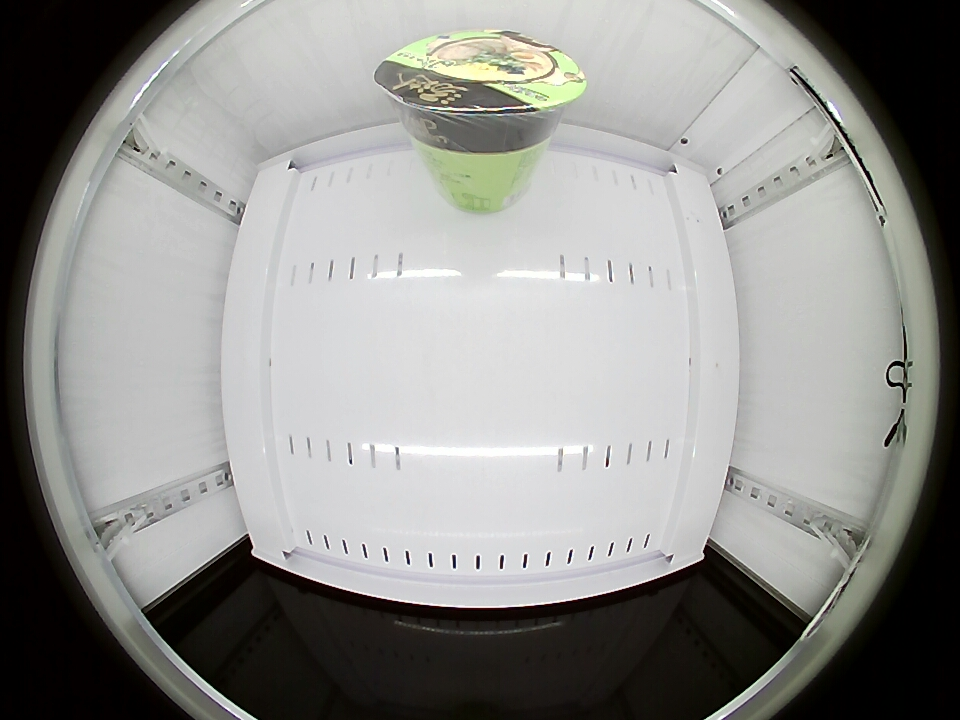tangdaren: (374, 29, 587, 156)
